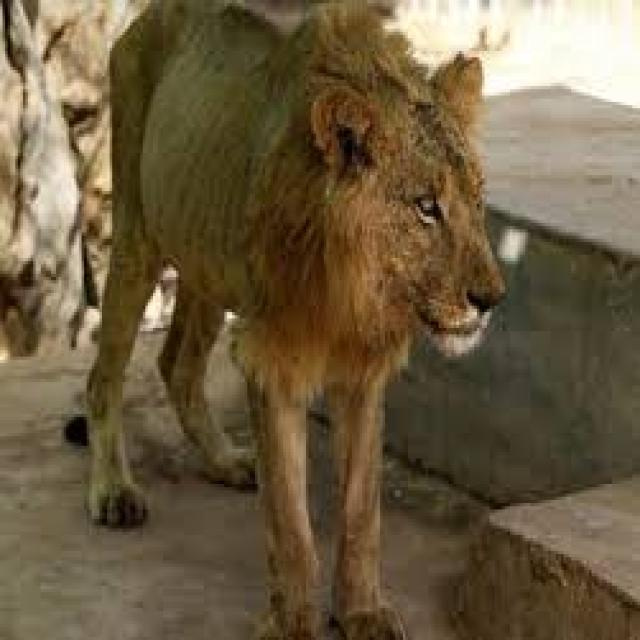Lion: (83, 0, 506, 637)
